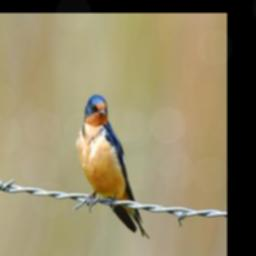Swallow: (75, 93, 150, 239)
